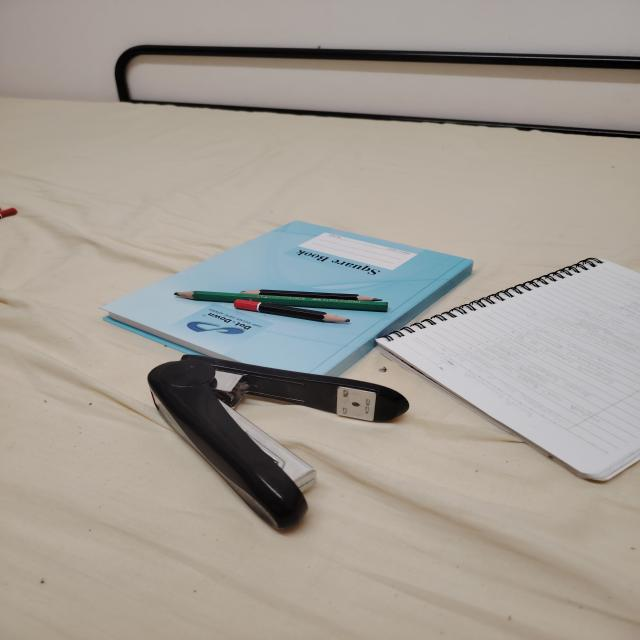pencil: (174, 291, 387, 312), (234, 299, 350, 323), (241, 289, 380, 301)
stapler: (148, 355, 409, 530)
